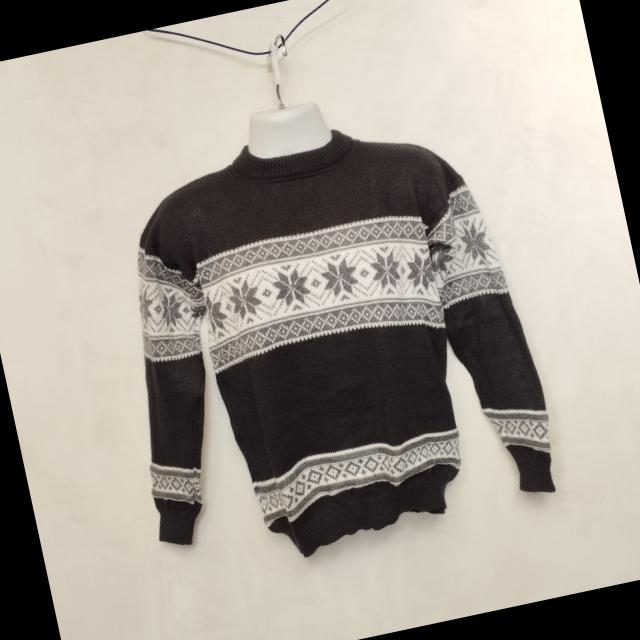Chompa: (78, 70, 568, 586)
